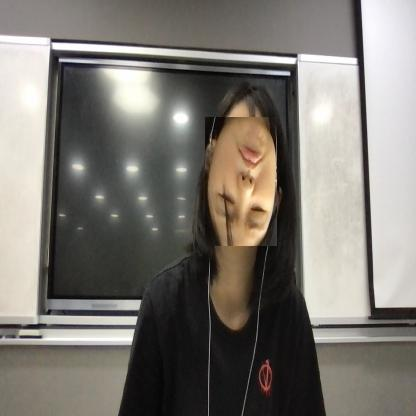sad: (205, 117, 278, 247)
